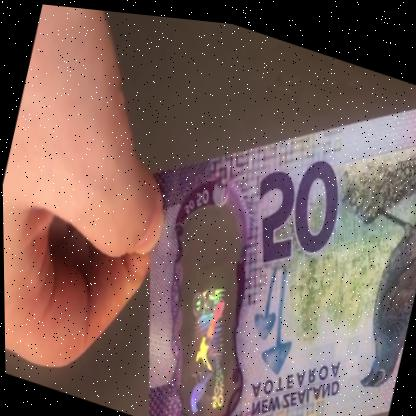50B: (148, 200, 264, 415)
